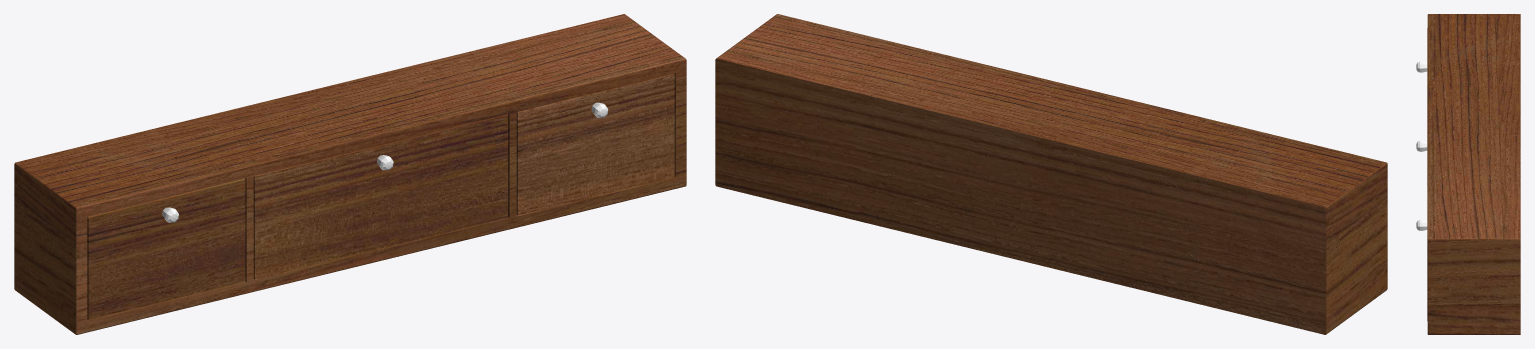
Rendered from Tv Unite_1.fbx.
The picture shows the model from 3 angles, left to right: view 1: azimuth 30°, elevation 25°; view 2: azimuth 150°, elevation 25°; view 3: azimuth 270°, elevation 25°; orthographic projection. The views are drawn at different scales.
Visible parts, largest first — view 1: Cube.001; view 2: Cube.001; view 3: Cube.001.
Part boxes in pixels (x1,y1,x2,y2): Cube.001: (14, 14, 686, 334); Cube.001: (715, 14, 1387, 334); Cube.001: (1416, 14, 1520, 334).
Bounding box in the file's own units: 200 × 40 × 39.23.
2 materials, 1 textured.
